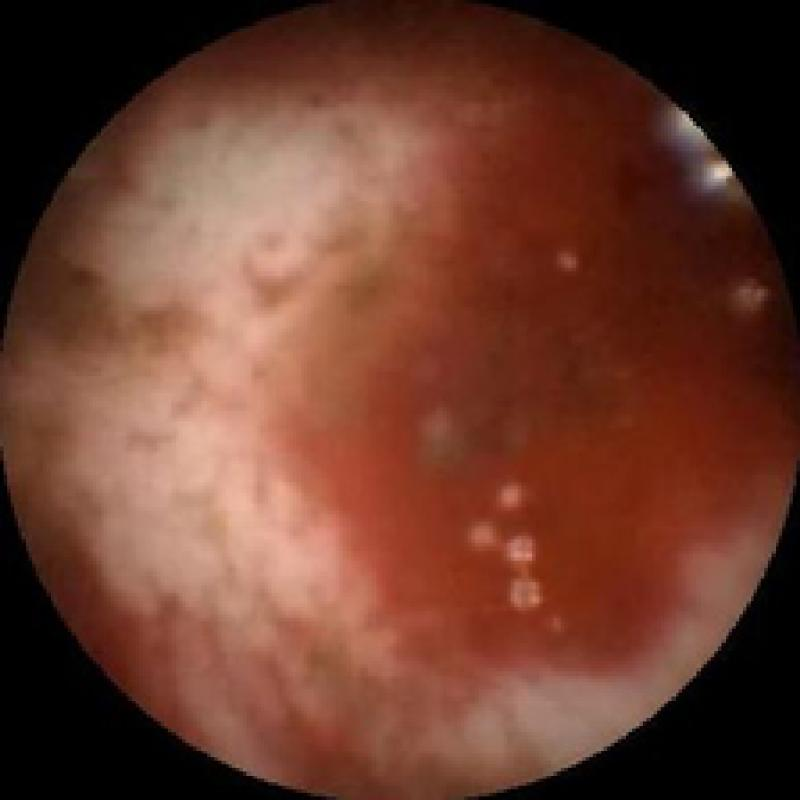bleeding: (293, 36, 661, 746)
